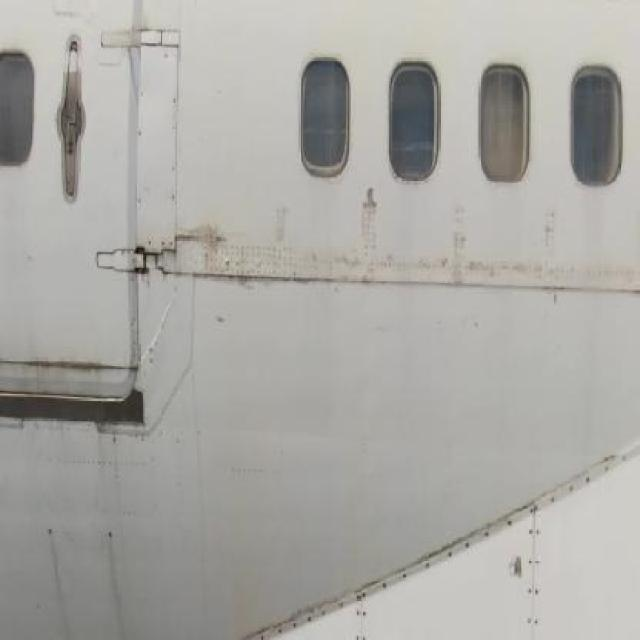Missing-Rivet: (373, 505, 522, 581), (238, 572, 376, 640), (547, 430, 638, 505), (522, 487, 548, 640)
Scartch: (4, 342, 122, 382)
